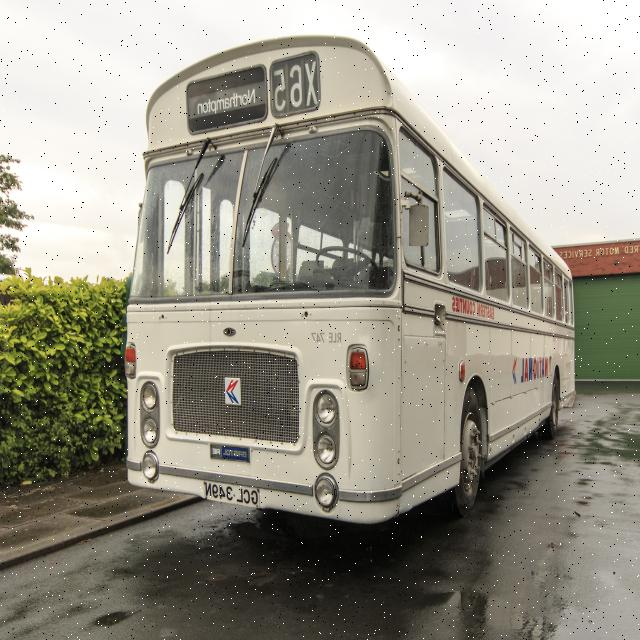Bus: (127, 35, 572, 514)
